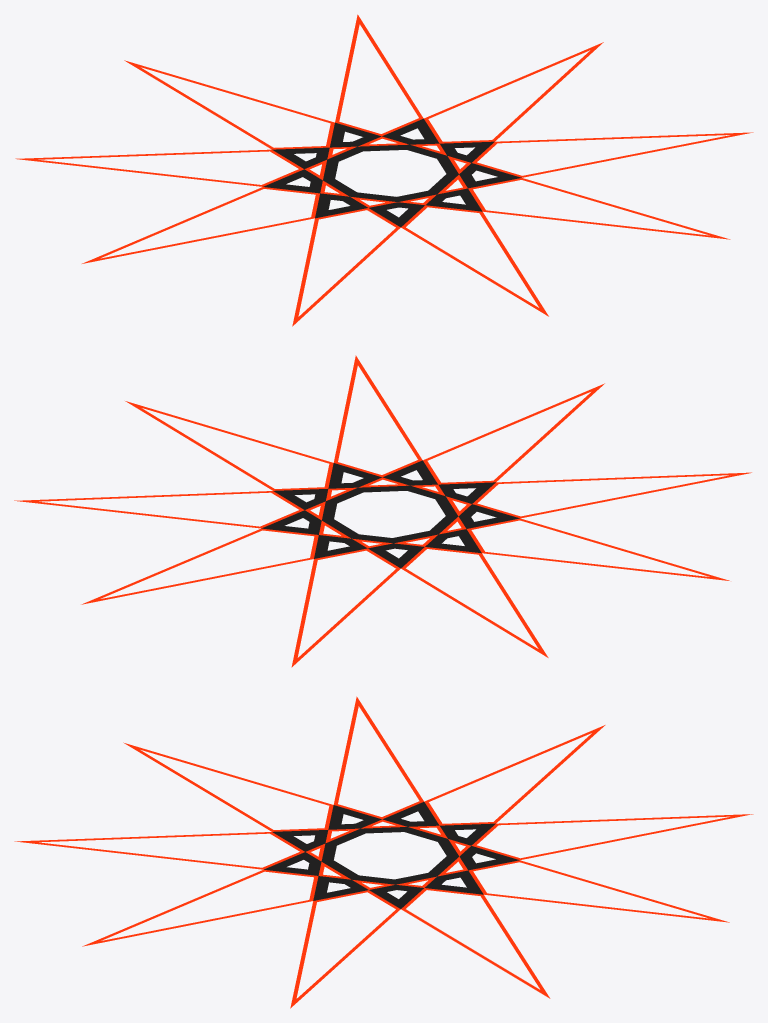
File: 9 point star.glb
The picture shows the model from 3 angles, top to bottom: view 1: azimuth 30°, elevation 25°; view 2: azimuth 150°, elevation 25°; view 3: azimuth 270°, elevation 25°; orthographic projection.
Parts seen in each view (by area): view 1: Icosphere.002; view 2: Icosphere.002; view 3: Icosphere.002.
Boxes of the visible parts, x1,y1,x2,y2 form: Icosphere.002: (15,14,753,326); Icosphere.002: (14,355,751,667); Icosphere.002: (14,696,753,1008).
Size of what is drawn, in the model's own units: 1.55 by 0 by 1.55.
